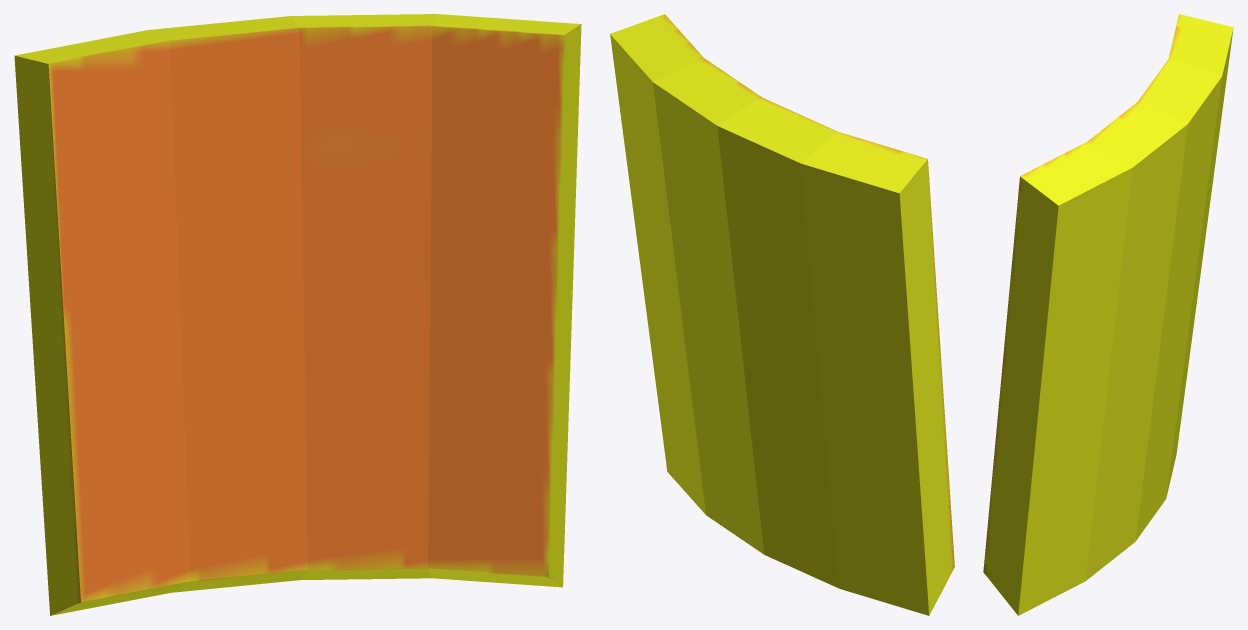
Rendered from Level_2_7.obj.
3 renders of one model, left to right at view 1: azimuth 30°, elevation 25°; view 2: azimuth 150°, elevation 25°; view 3: azimuth 270°, elevation 25°, orthographic. The views are drawn at different scales.
Parts seen in each view (by area): view 1: Level_2_7_Cylinder.034; view 2: Level_2_7_Cylinder.034; view 3: Level_2_7_Cylinder.034.
Part boxes in pixels (bbox=[...]): Level_2_7_Cylinder.034: bbox=[14, 14, 581, 615]; Level_2_7_Cylinder.034: bbox=[610, 14, 954, 615]; Level_2_7_Cylinder.034: bbox=[983, 14, 1233, 615].
Bounding box in the file's own units: 1.67 × 1.92 × 0.9886.
